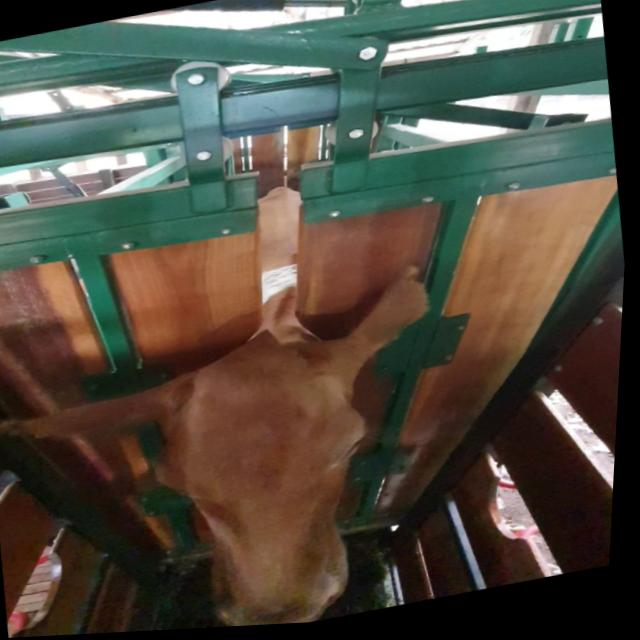cowFace: (140, 332, 401, 633)
